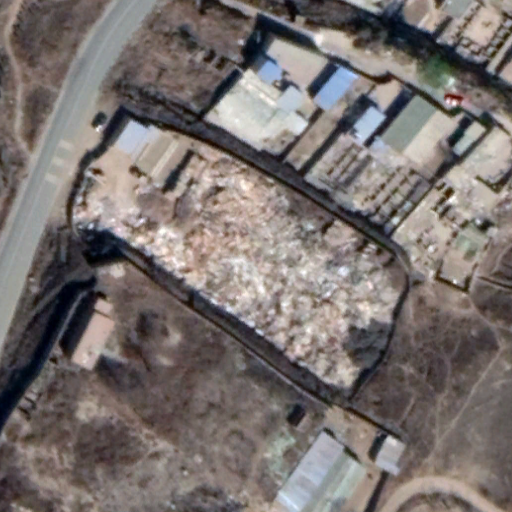msw: (111, 155, 403, 404)
